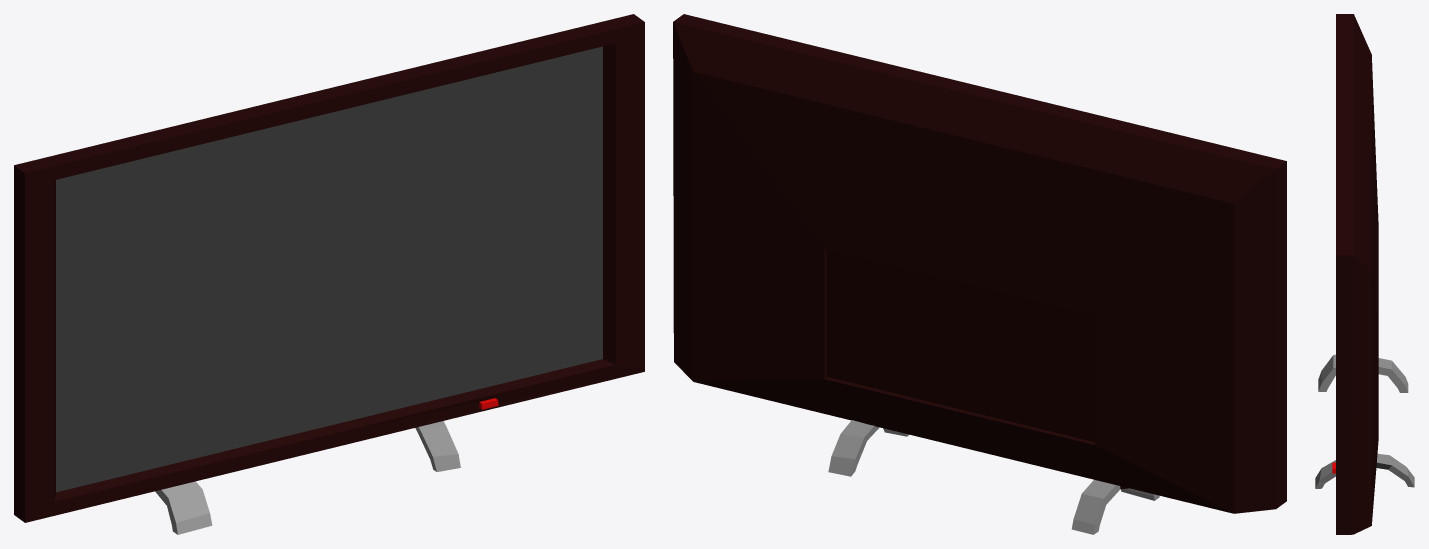
3 renders of one model, left to right at view 1: azimuth 30°, elevation 25°; view 2: azimuth 150°, elevation 25°; view 3: azimuth 270°, elevation 25°, orthographic. The views are drawn at different scales.
Visible parts, largest first — view 1: TV; view 2: TV; view 3: TV.
Part boxes in pixels (x1=…): TV: x1=14, y1=14, x2=644, y2=534; TV: x1=673, y1=14, x2=1286, y2=534; TV: x1=1315, y1=14, x2=1414, y2=534.
Bounding box in the file's own units: 1280 × 767 × 223.
Materials: 1 (1 with a texture image).
